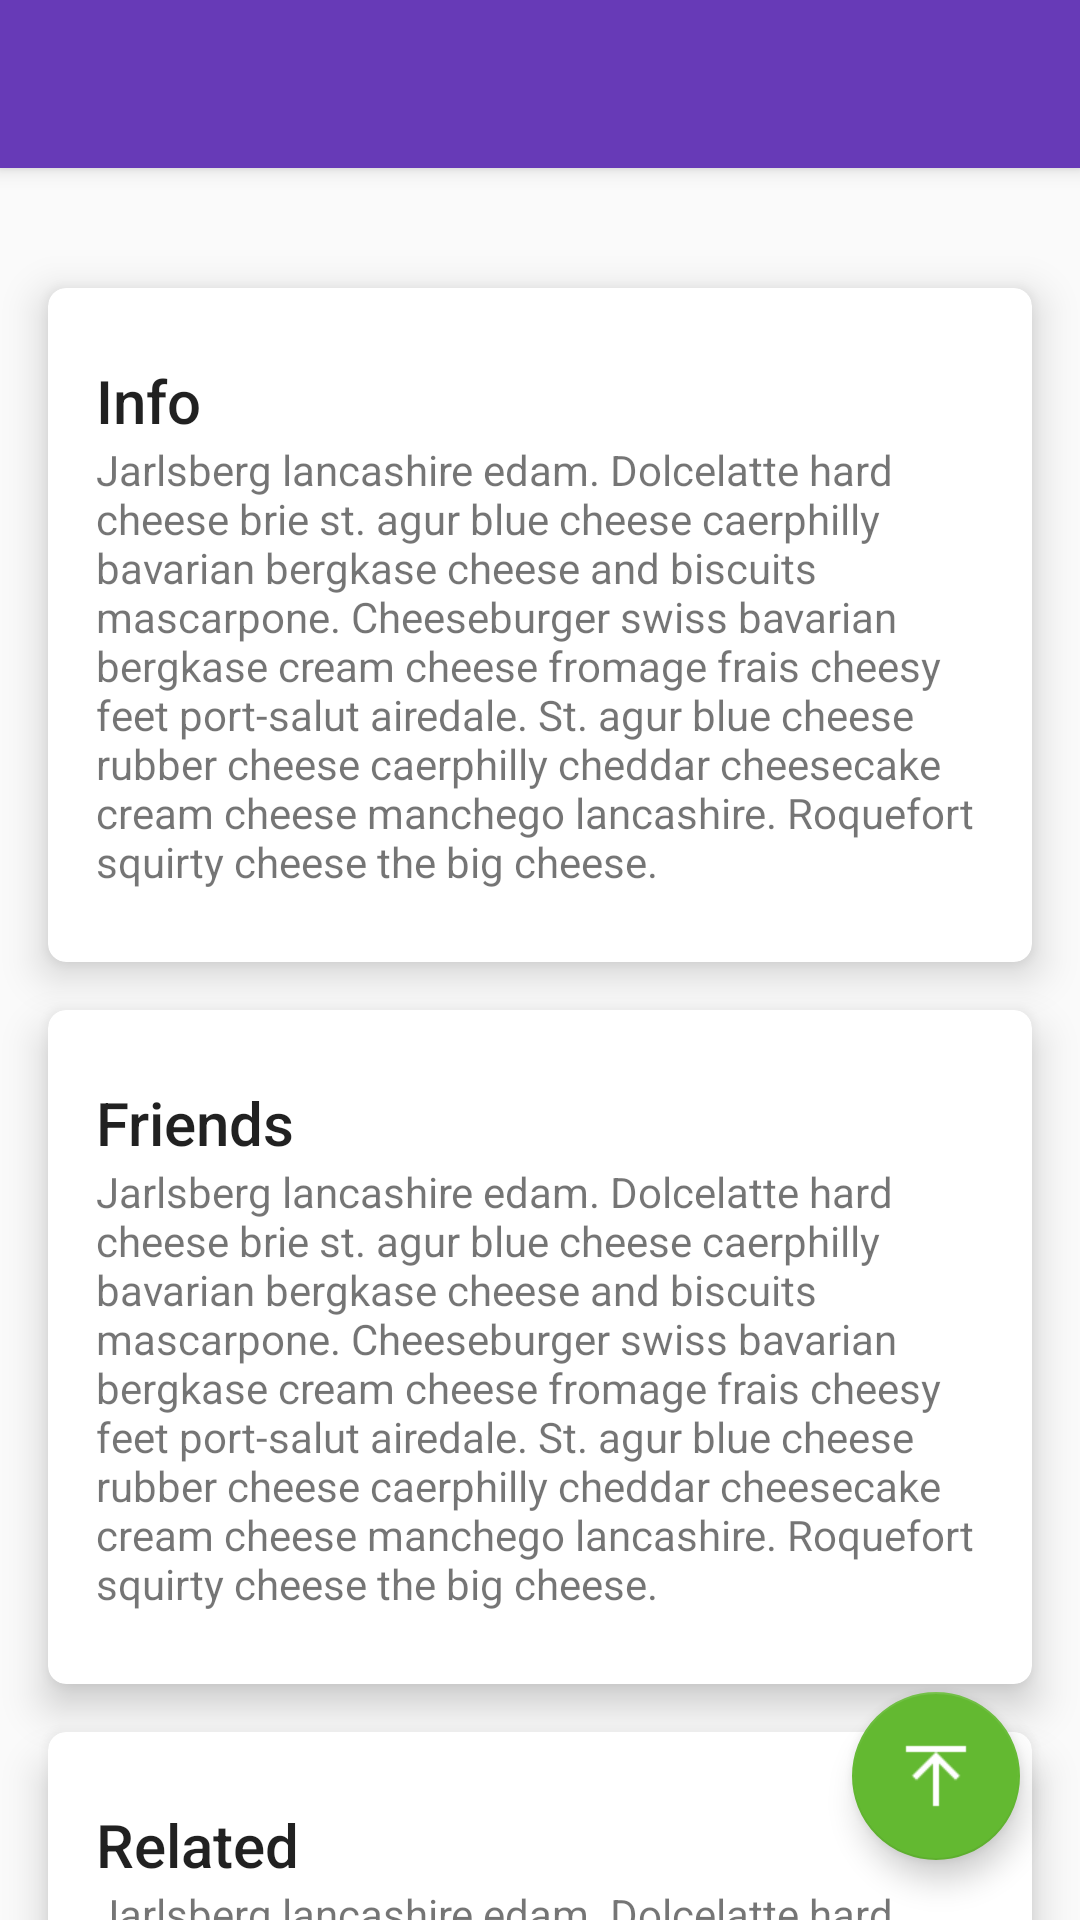

Icon click points for this 1080px x 1920px phone screenshot, format point (x, y):
arrow up: point (936, 1776)
